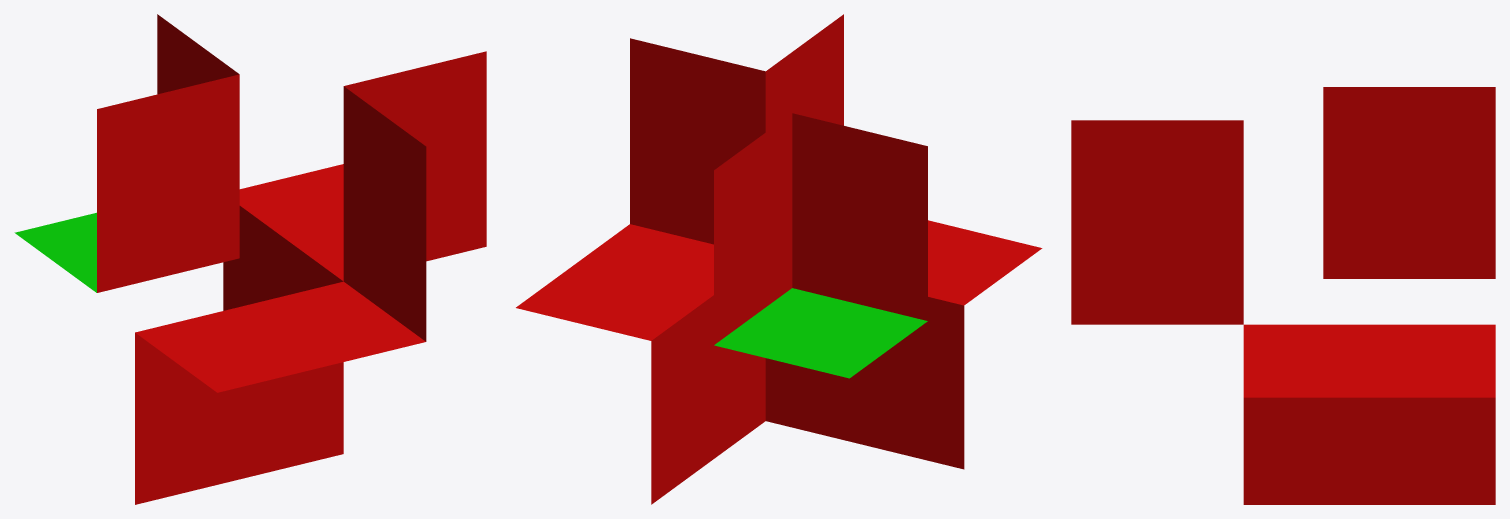
3 views of the same model, side by side, from view 1: azimuth 30°, elevation 25°; view 2: azimuth 150°, elevation 25°; view 3: azimuth 270°, elevation 25° (orthographic). The views are drawn at different scales.
Visible parts, largest first — view 1: None_E_E_A_E_W_E_E_A_None; view 2: None_E_E_A_E_W_E_E_A_None; view 3: None_E_E_A_E_W_E_E_A_None.
Part boxes in pixels (x1,y1,x2,y2): None_E_E_A_E_W_E_E_A_None: (14, 14, 486, 504); None_E_E_A_E_W_E_E_A_None: (516, 14, 1042, 504); None_E_E_A_E_W_E_E_A_None: (1071, 87, 1495, 504).
Bounding box in the file's own units: 100 × 100 × 100.
